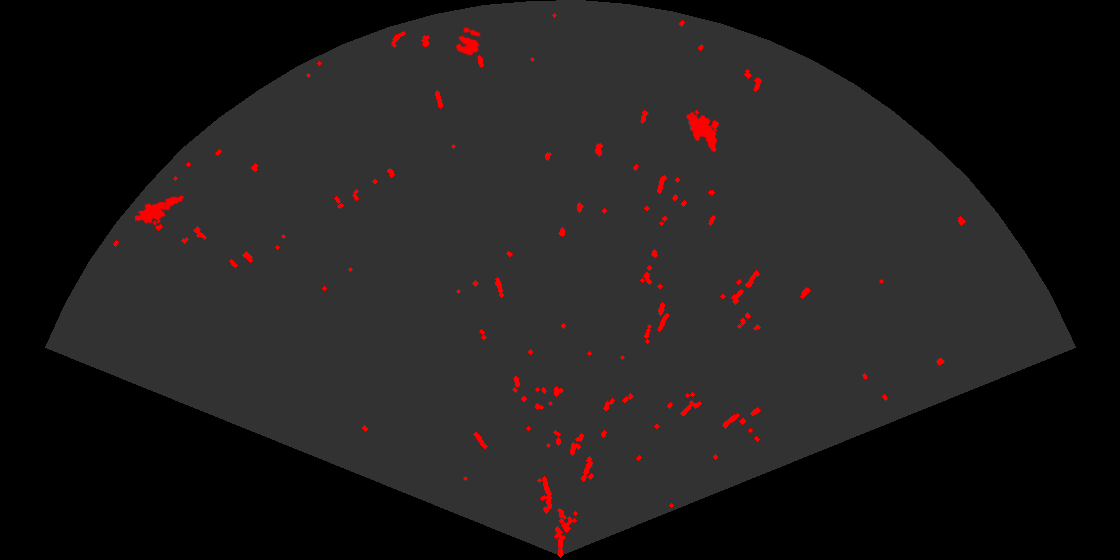AUV: (685, 110, 719, 154)
ball: (454, 25, 482, 57)
frogman: (135, 194, 185, 226)
